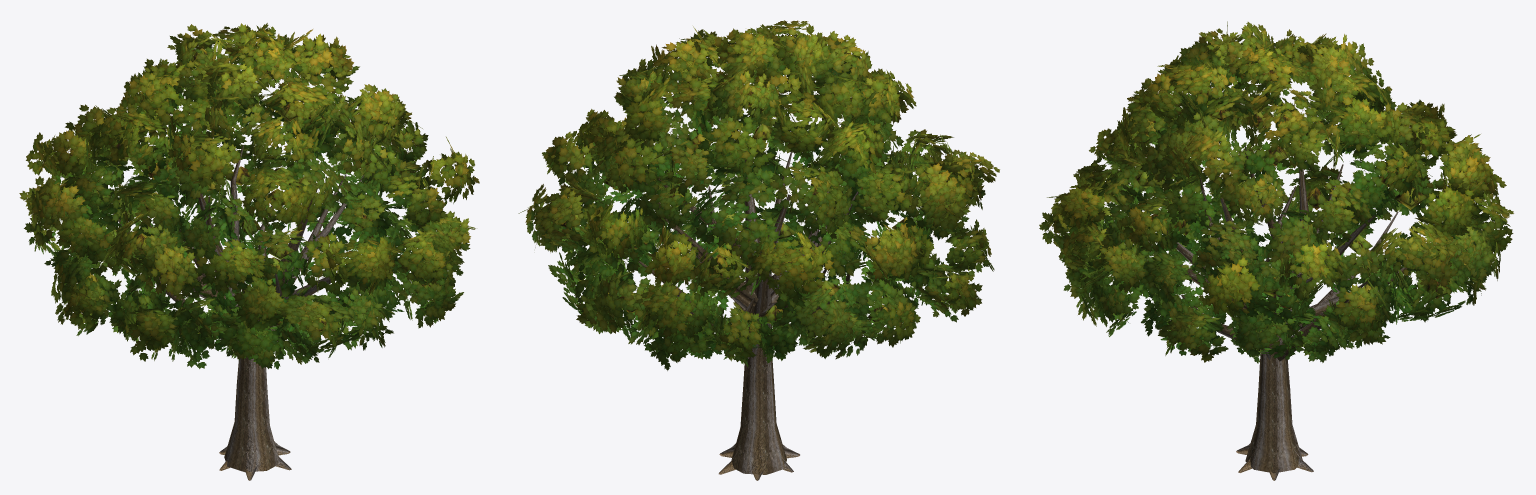
File: mm8_deco_tree60a.glb
The picture shows the model from 3 angles, left to right: view 1: azimuth 30°, elevation 25°; view 2: azimuth 150°, elevation 25°; view 3: azimuth 270°, elevation 25°; orthographic projection. The views are drawn at different scales.
Visible parts, largest first — view 1: Tree; view 2: Tree; view 3: Tree.
Boxes of the visible parts, x1=… form: Tree: x1=19, y1=23, x2=479, y2=480; Tree: x1=518, y1=20, x2=999, y2=480; Tree: x1=1039, y1=21, x2=1513, y2=480.
Size of the model in its own units: 12.71 by 12.68 by 12.98.
Materials: 3 (3 with a texture image).
